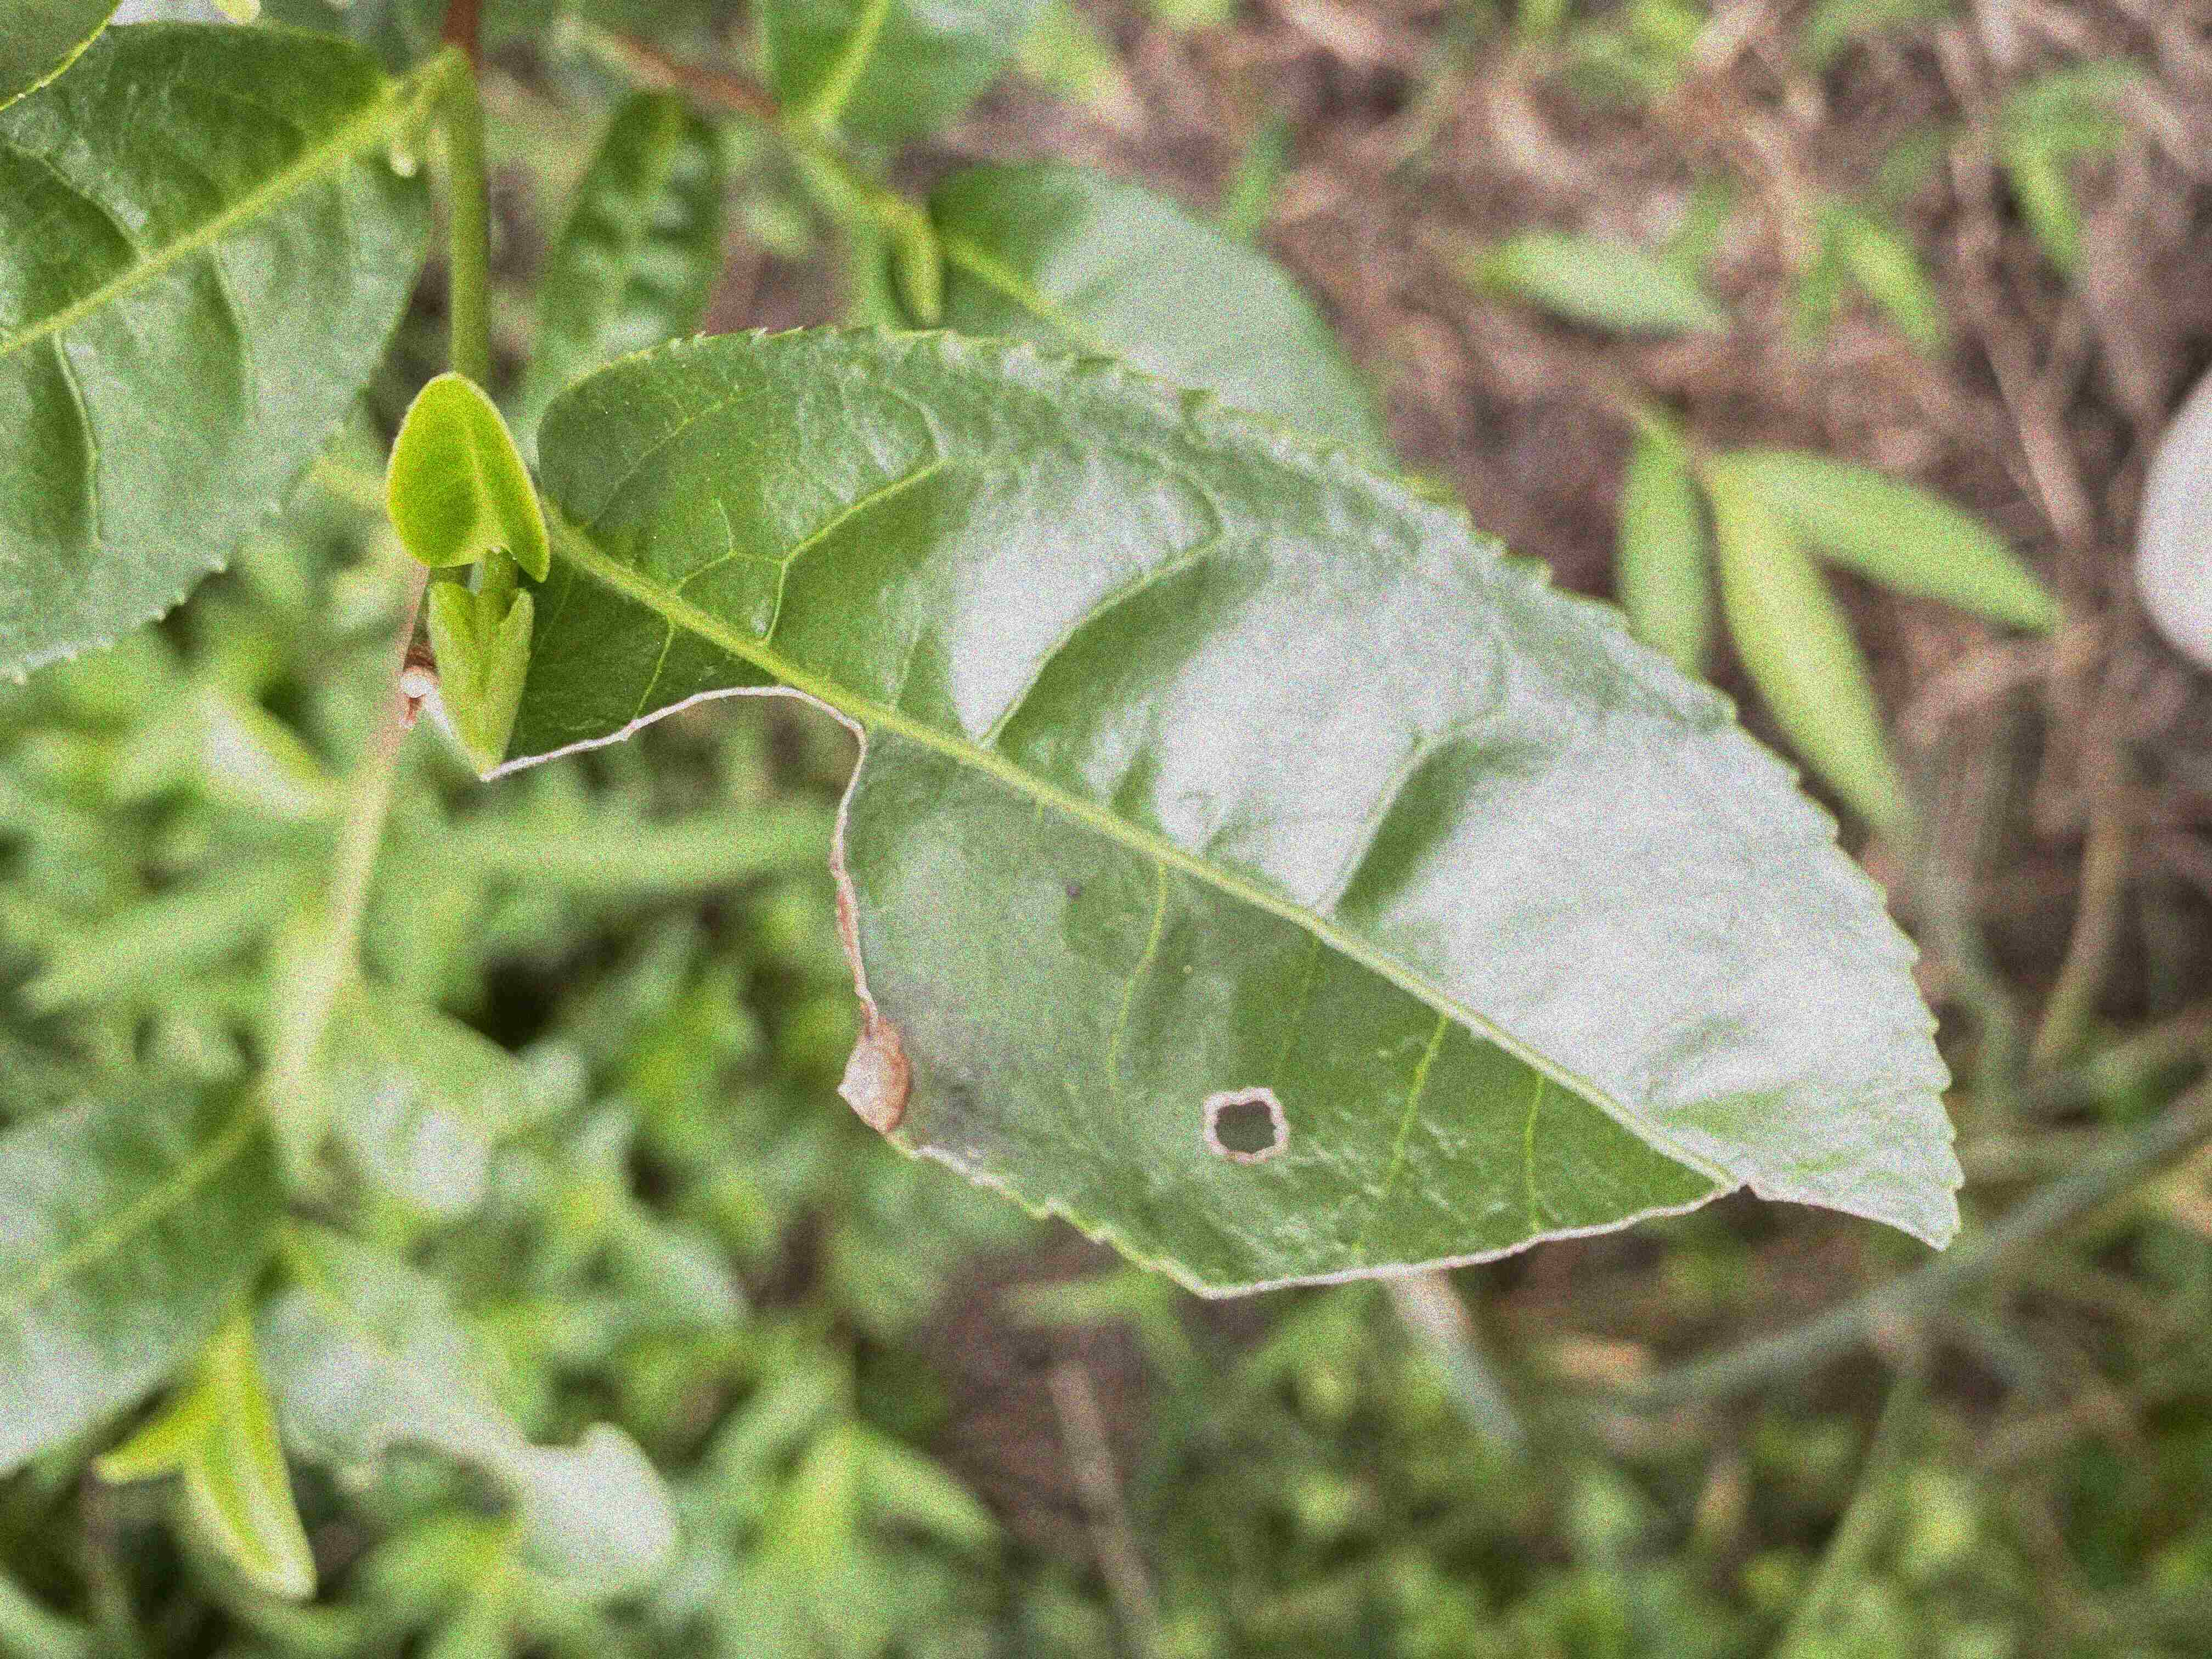chihuo_high: (484, 322, 1966, 1304)
healthy: (381, 364, 550, 584)
